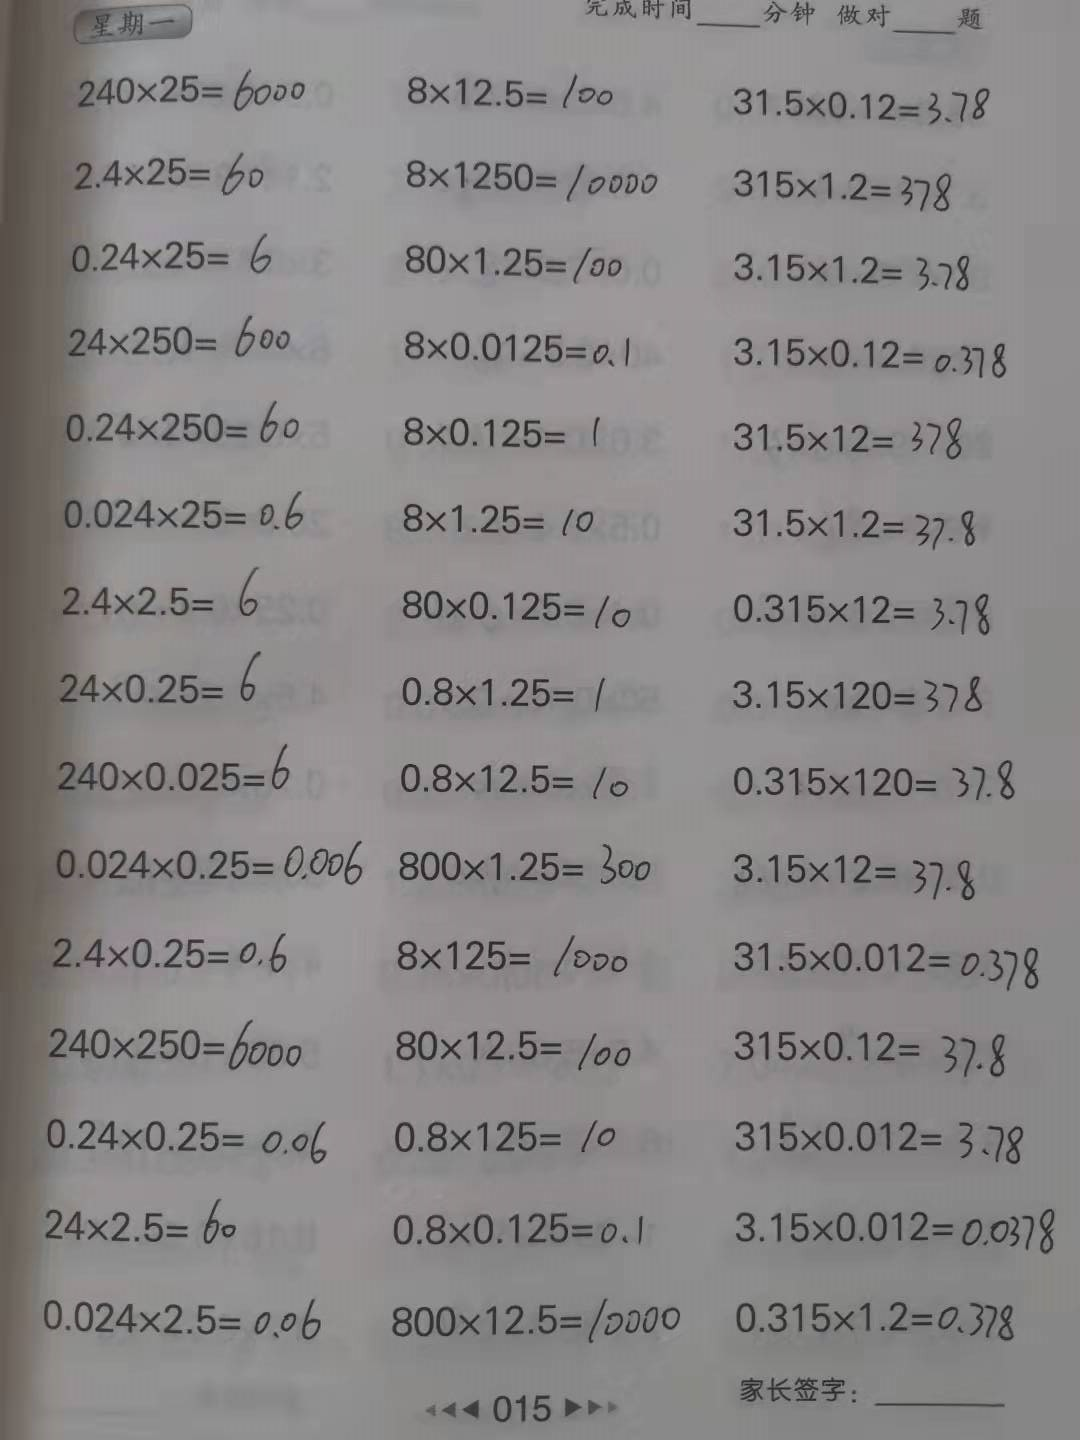equation: (719, 1198, 1068, 1264), (727, 1016, 1026, 1090), (719, 1109, 1058, 1174), (719, 571, 1001, 647), (724, 934, 1052, 998), (37, 1106, 334, 1174), (726, 1288, 1026, 1354), (380, 1288, 699, 1349), (725, 841, 993, 914), (35, 1287, 334, 1349), (725, 749, 1033, 810), (41, 1014, 317, 1081), (47, 835, 373, 890), (382, 1198, 655, 1261), (724, 328, 1016, 386), (390, 752, 638, 816), (728, 70, 997, 129), (723, 669, 1001, 726), (54, 483, 322, 541), (54, 736, 301, 798), (723, 407, 970, 468), (42, 922, 298, 981), (733, 495, 989, 554), (397, 579, 643, 641), (395, 842, 670, 897), (66, 63, 319, 122), (393, 155, 665, 210), (391, 925, 646, 983), (50, 652, 280, 715), (62, 308, 301, 369), (390, 1017, 641, 1074), (725, 156, 956, 217), (395, 320, 644, 374), (383, 1107, 623, 1163), (722, 244, 974, 297), (396, 236, 628, 293), (53, 399, 311, 449), (66, 225, 288, 281), (397, 403, 615, 459), (389, 488, 606, 543), (54, 569, 290, 619), (69, 144, 264, 204), (395, 664, 619, 715), (43, 1198, 244, 1255), (397, 70, 628, 118)
